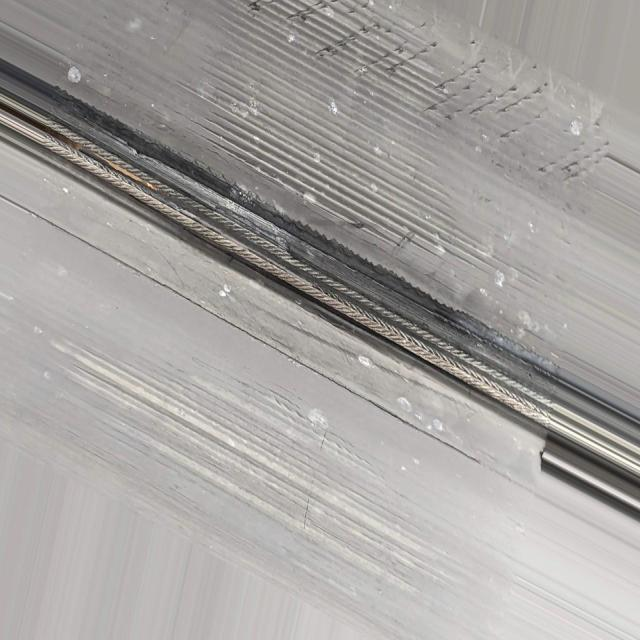Tear: (252, 0, 618, 192)
impact damage: (40, 82, 554, 438), (206, 38, 514, 290)
